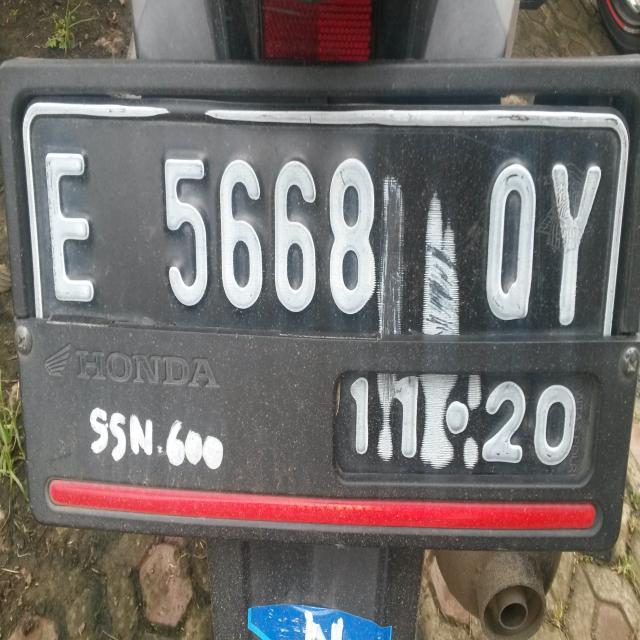plate: (23, 97, 630, 488)
